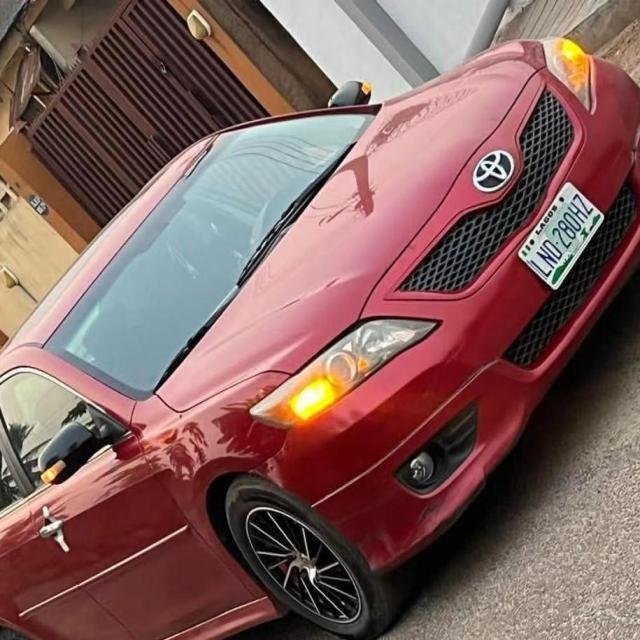Nigerian License Plate - vdataset benjamin-daria: (518, 180, 606, 293)
